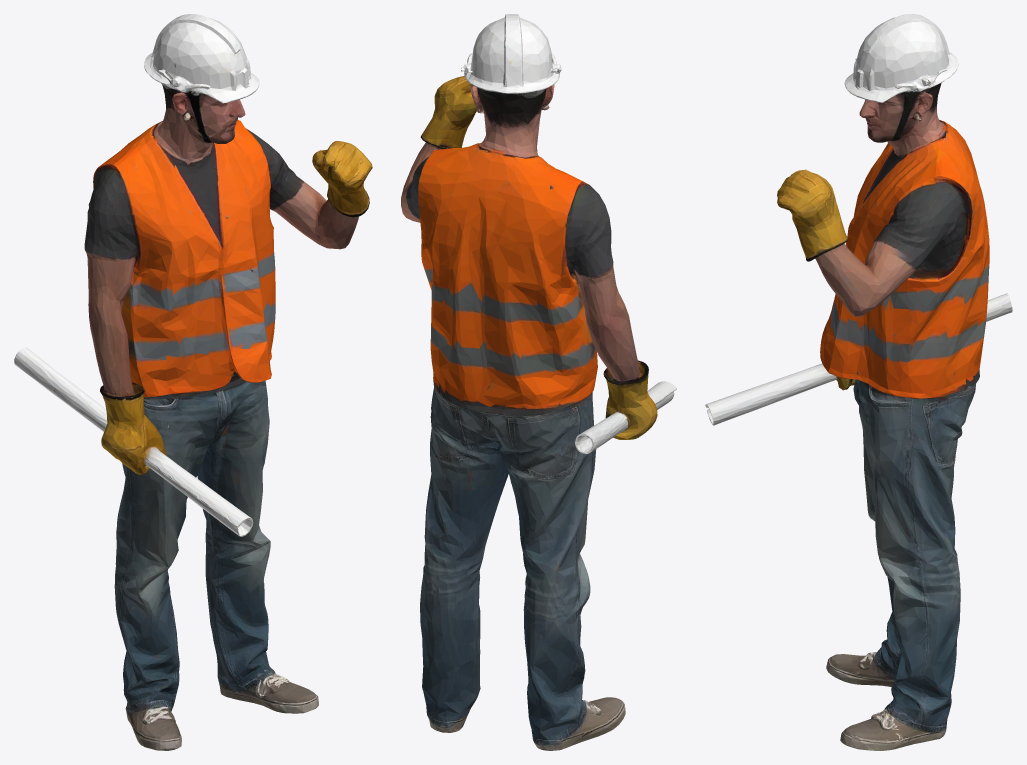
Rendered from trabmed.glb.
3 renders of one model, left to right at view 1: azimuth 30°, elevation 25°; view 2: azimuth 150°, elevation 25°; view 3: azimuth 270°, elevation 25°, orthographic. The views are drawn at different scales.
Visible parts, largest first — view 1: m.obj; view 2: m.obj; view 3: m.obj.
Boxes of the visible parts, <box> form: m.obj: <box>14,14,372,750</box>; m.obj: <box>401,14,676,750</box>; m.obj: <box>705,14,1012,750</box>.
Size of the model in its own units: 0.7424 by 1.9 by 0.7637.
1 material, 1 textured.
